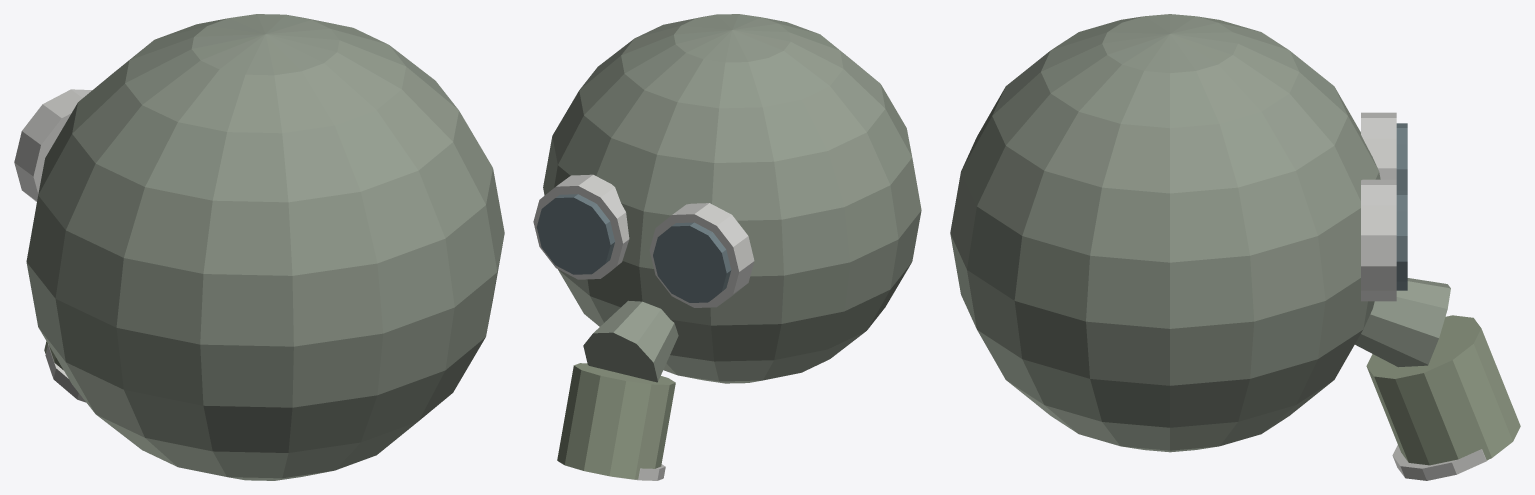
Rendered from face_gas_mask.glb.
The picture shows the model from 3 angles, left to right: view 1: azimuth 30°, elevation 25°; view 2: azimuth 150°, elevation 25°; view 3: azimuth 270°, elevation 25°; orthographic projection. The views are drawn at different scales.
Parts seen in each view (by area): view 1: Head; view 2: Head; view 3: Head.
Part boxes in pixels (x1,y1,x2,y2): Head: (14,14,504,480); Head: (533,14,921,480); Head: (950,14,1520,480).
Bounding box in the file's own units: 0.63 × 0.665 × 0.7928.
